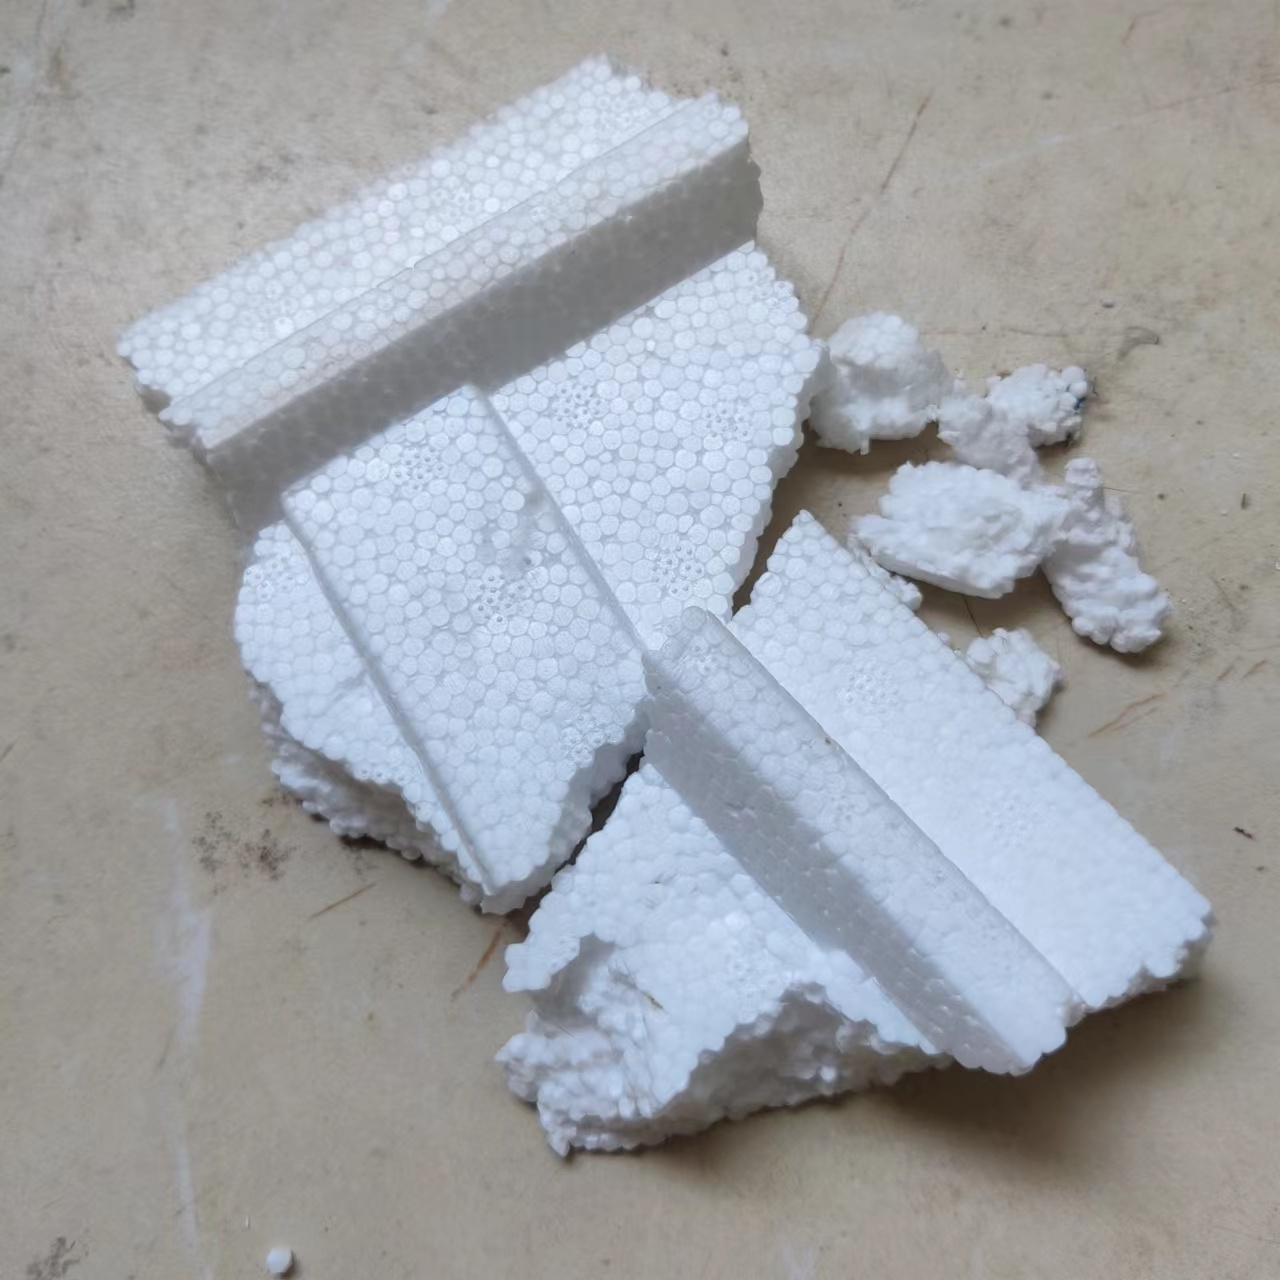5/可回收垃圾/泡沫: (105, 52, 811, 918), (493, 509, 1213, 1164), (850, 461, 1055, 605), (1042, 452, 1175, 660), (806, 311, 944, 451), (937, 386, 1039, 481), (990, 363, 1089, 448), (967, 627, 1056, 719)
